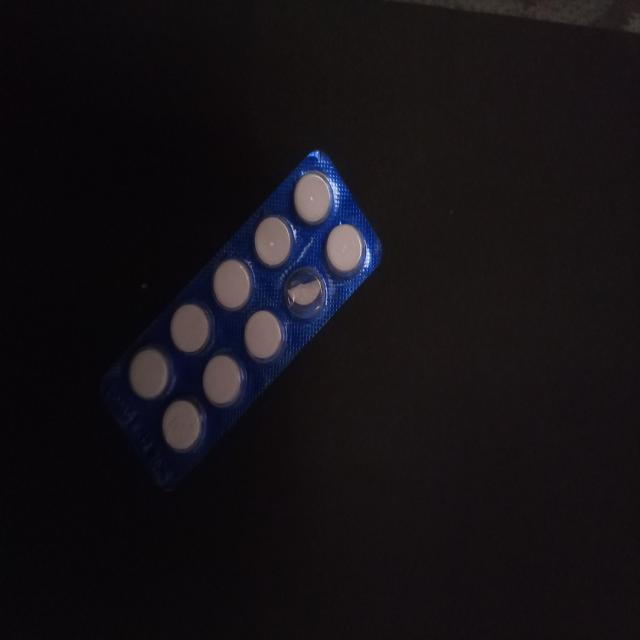defect: (282, 264, 329, 324)
